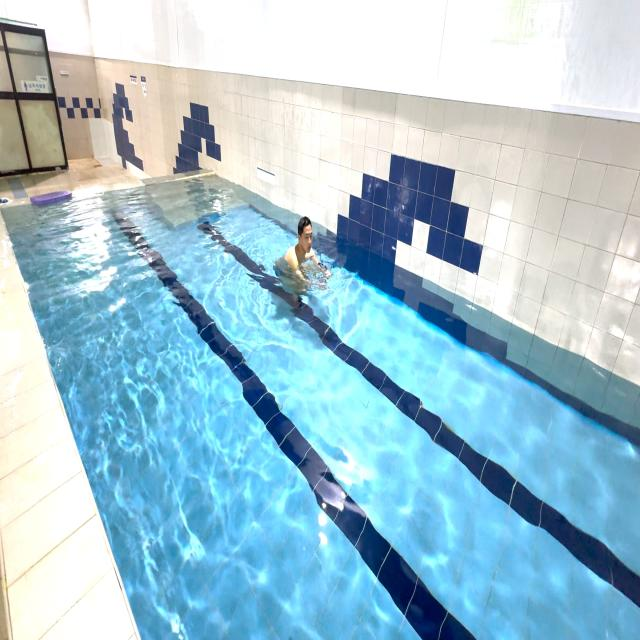Swimming: (268, 198, 334, 326)
